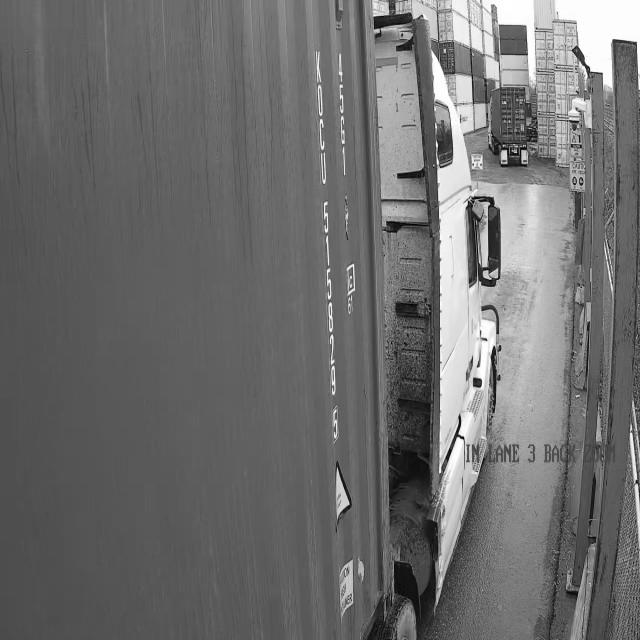container_side_no: (311, 40, 344, 447)
truck_with_container: (0, 0, 514, 639)
